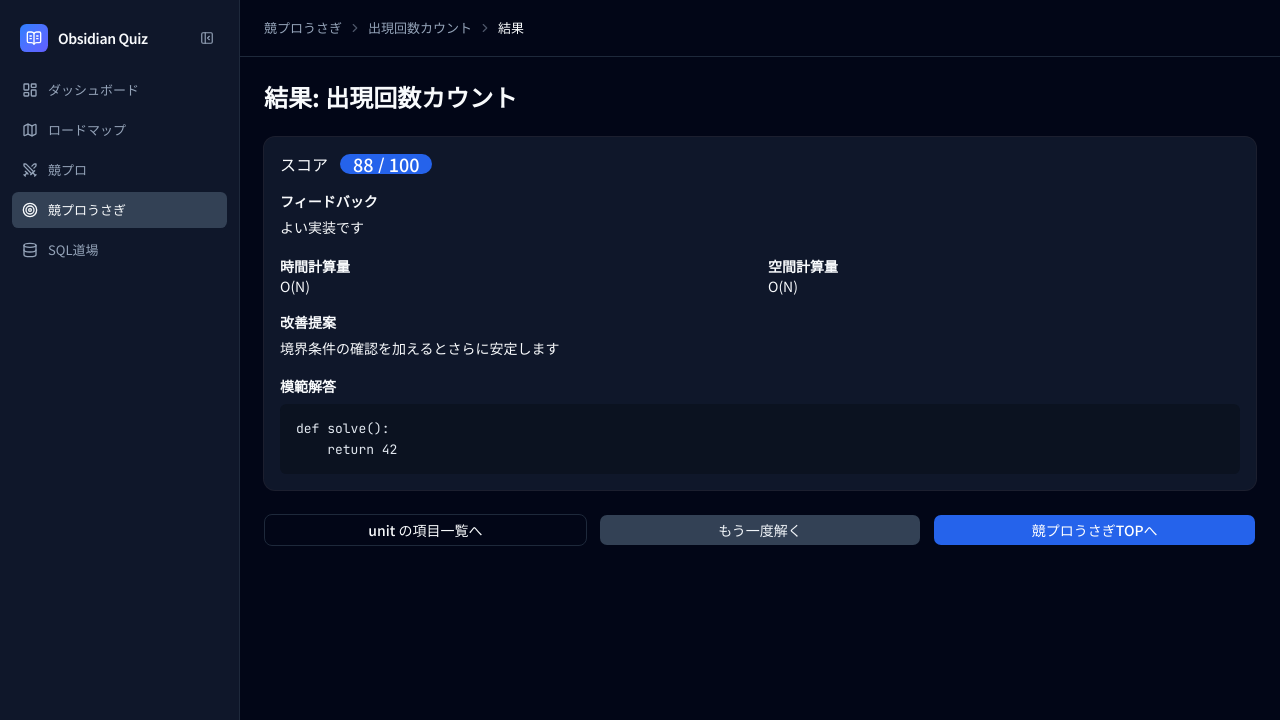
Test case: AlgorithmFoundationsSessionPage › 結果画面から同じ問題をもう一度開始できる
Click the button "もう一度解く" at (760, 530), box [599,514,921,546]
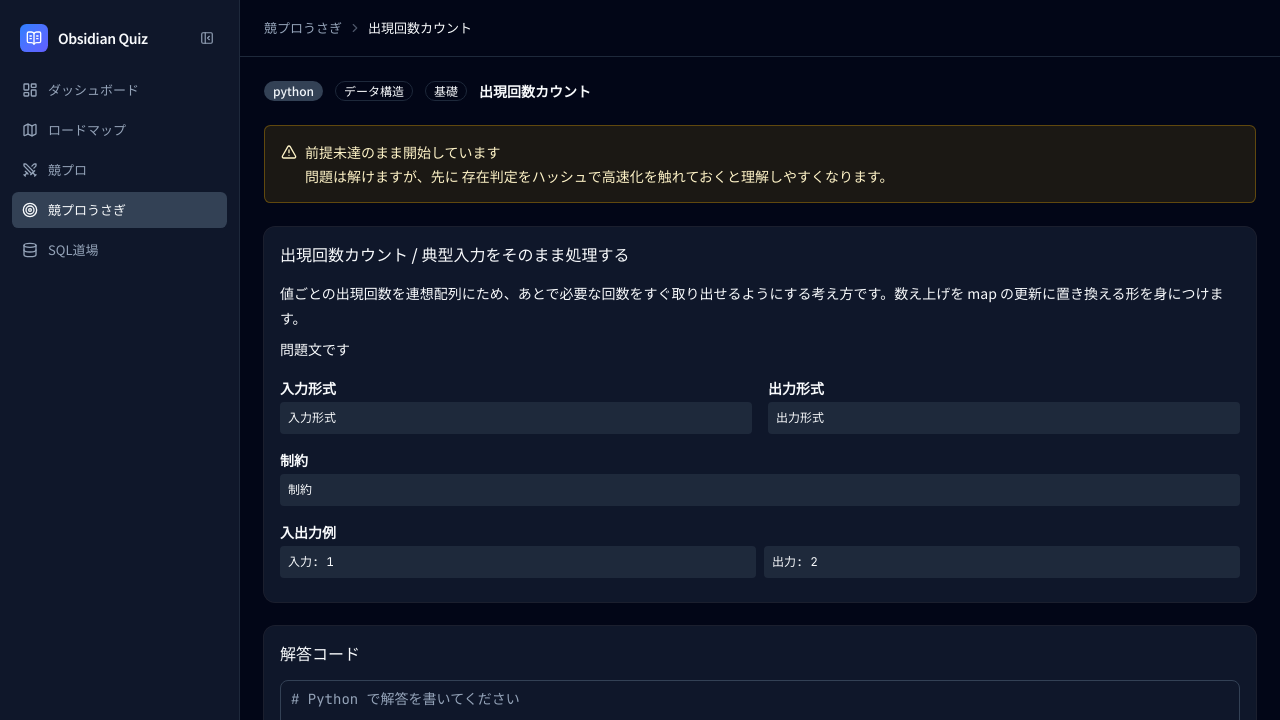
Expected: the text "出現回数カウント / 典型入力をそのまま処理する" is shown, [280,242,630,266]
